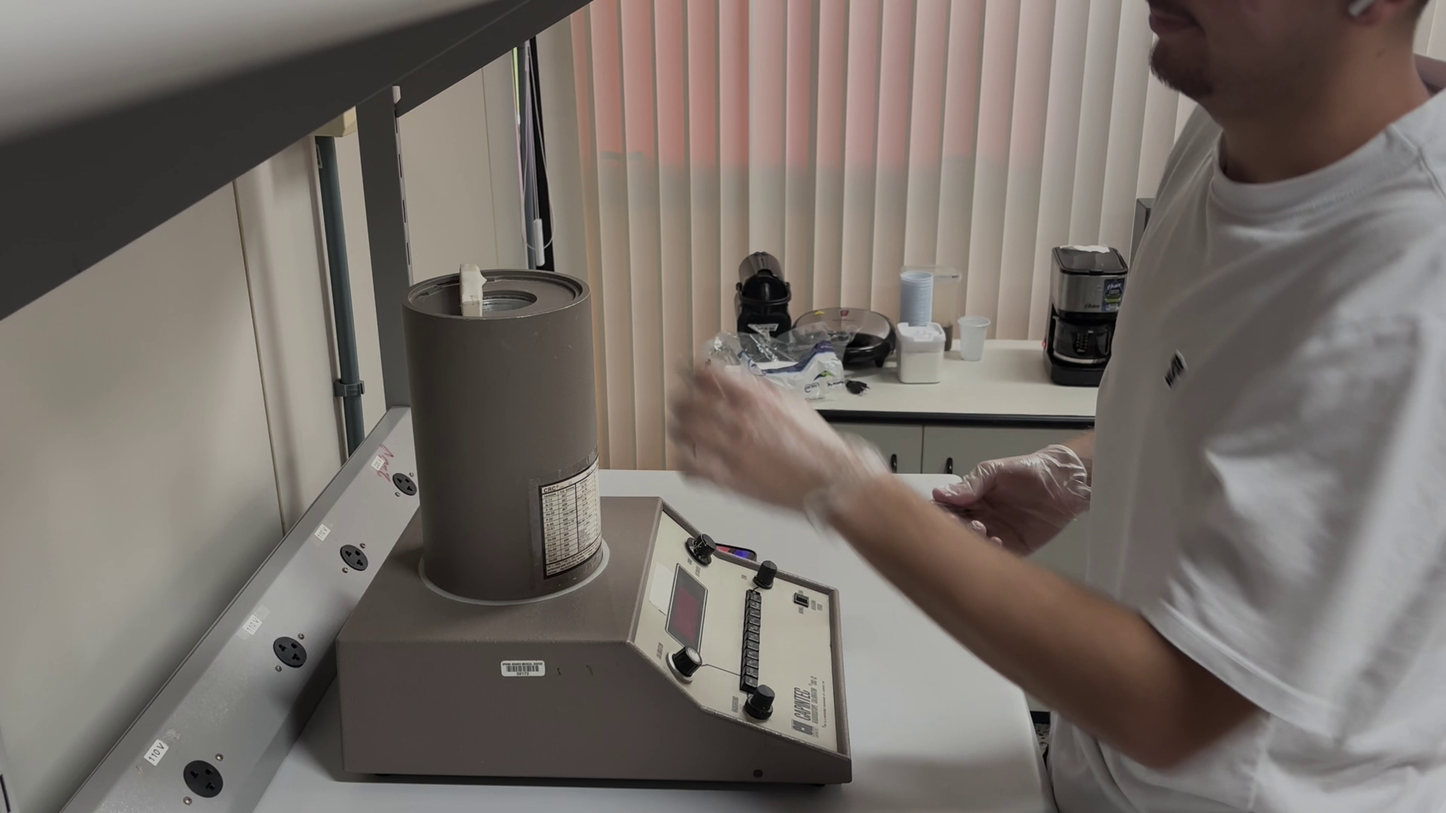Ativimetro: (398, 267, 609, 606)
Com_Luva: (662, 353, 891, 546), (930, 442, 1097, 561)
